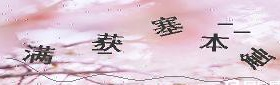chinese: (242, 46, 276, 69), (26, 42, 57, 67), (94, 31, 122, 55), (202, 33, 227, 55), (156, 15, 180, 37)
